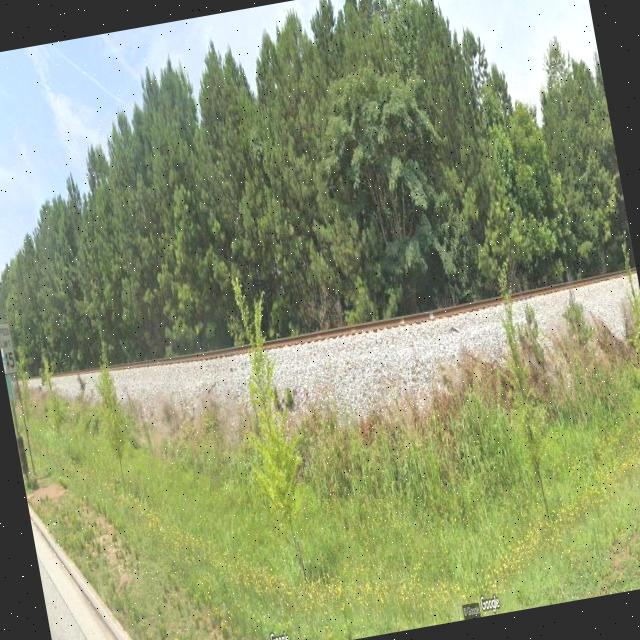trash_can: (16, 434, 30, 474)
